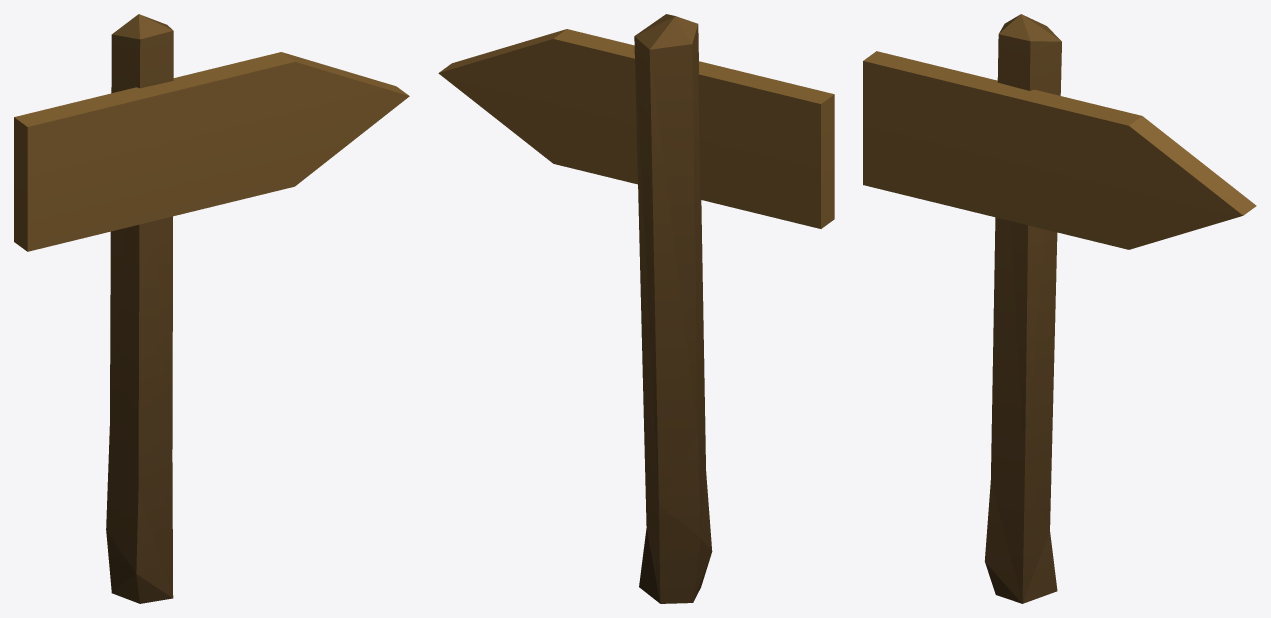
The model's file is Pointer_02.fbx.
The picture shows the model from 3 angles, left to right: view 1: azimuth 30°, elevation 25°; view 2: azimuth 150°, elevation 25°; view 3: azimuth 330°, elevation 25°; orthographic projection.
Parts seen in each view (by area): view 1: Pointer_02; view 2: Pointer_02; view 3: Pointer_02.
Boxes of the visible parts, x1=… form: Pointer_02: x1=14, y1=14, x2=409, y2=603; Pointer_02: x1=438, y1=14, x2=834, y2=603; Pointer_02: x1=863, y1=14, x2=1256, y2=603.
Bounding box in the file's own units: 1.06 × 1.54 × 0.1995.
